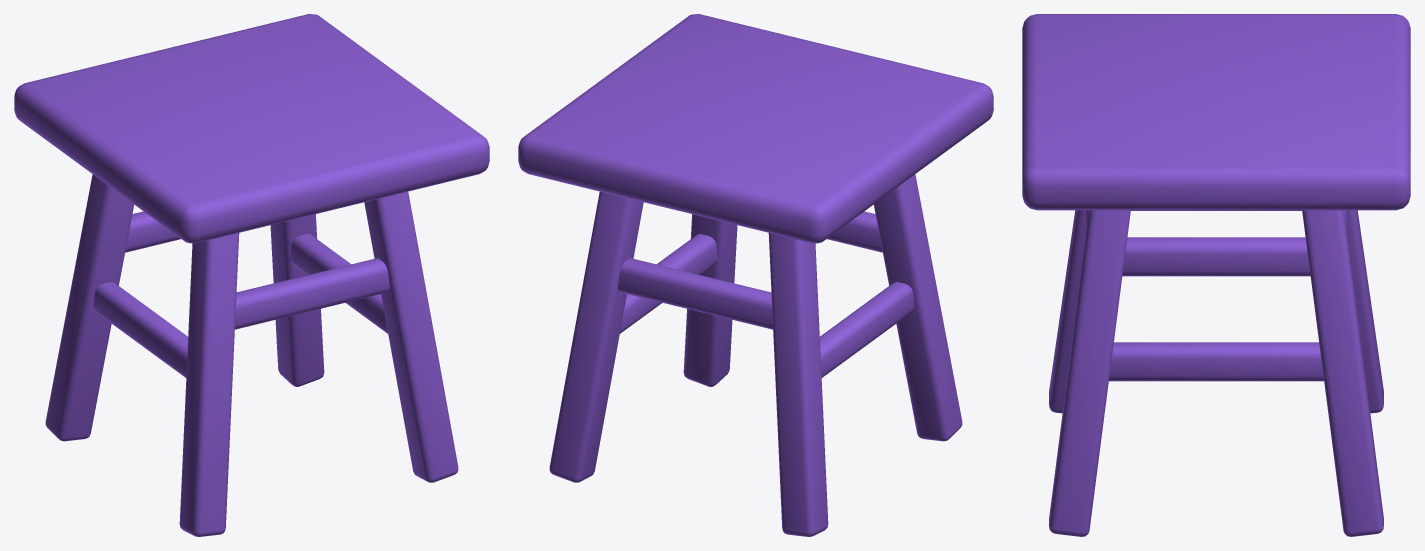
File: banqueta_degrau_roxa.glb
3 views of the same model, side by side, from view 1: azimuth 30°, elevation 25°; view 2: azimuth 150°, elevation 25°; view 3: azimuth 270°, elevation 25° (orthographic). The views are drawn at different scales.
Parts seen in each view (by area): view 1: banqueta_degrau_roxa; view 2: banqueta_degrau_roxa; view 3: banqueta_degrau_roxa.
Boxes of the visible parts, x1,y1,x2,y2 form: banqueta_degrau_roxa: (14, 14, 489, 536); banqueta_degrau_roxa: (518, 14, 993, 536); banqueta_degrau_roxa: (1022, 14, 1410, 536).
Bounding box in the file's own units: 0.42 × 0.4535 × 0.42.
1 material, 1 textured.
